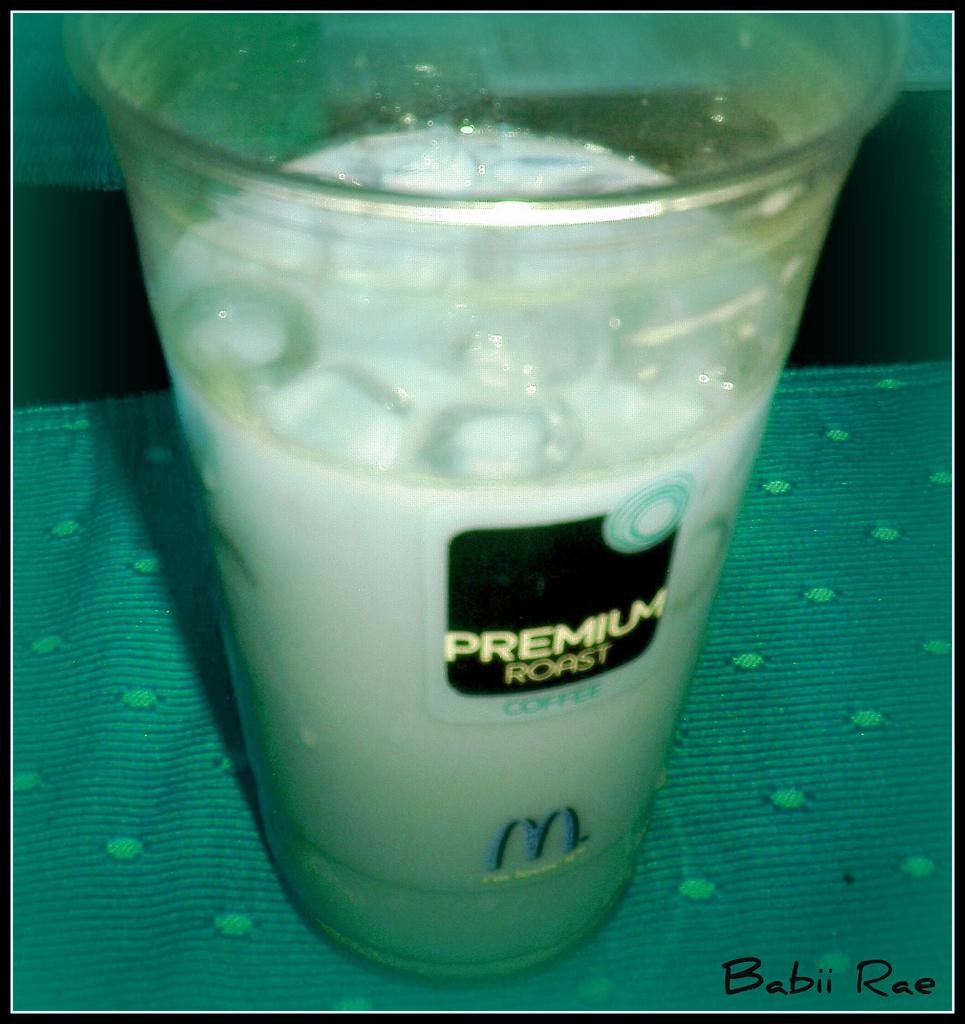glass of milk: (143, 121, 670, 992)
